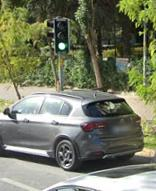greenlight: (57, 16, 69, 54)
